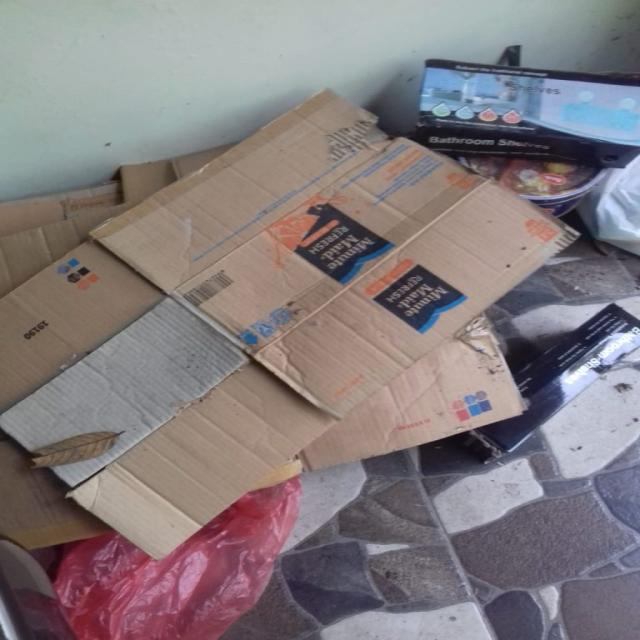Kertas: (29, 112, 520, 536)
